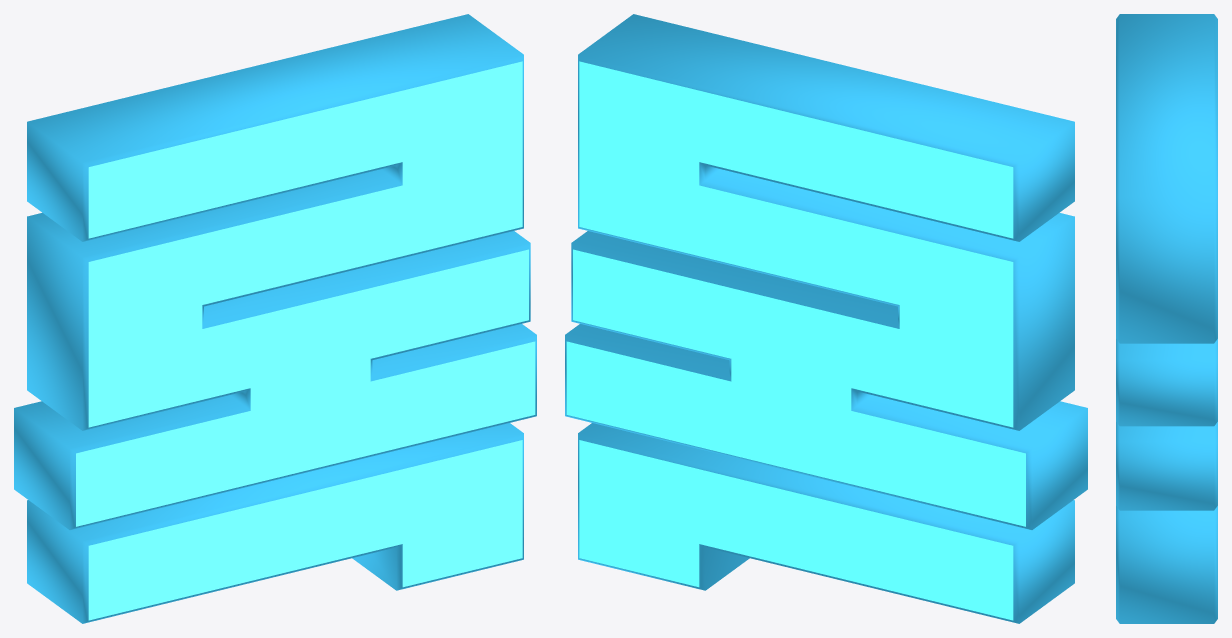
3 renders of one model, left to right at view 1: azimuth 30°, elevation 25°; view 2: azimuth 150°, elevation 25°; view 3: azimuth 270°, elevation 25°, orthographic. The views are drawn at different scales.
Parts seen in each view (by area): view 1: glyph; view 2: glyph; view 3: glyph.
Boxes of the visible parts, x1=… form: glyph: x1=14, y1=14, x2=536, y2=623; glyph: x1=565, y1=14, x2=1087, y2=623; glyph: x1=1116, y1=14, x2=1217, y2=623.
Bounding box in the file's own units: 0.0726 × 0.075 × 0.0162.
